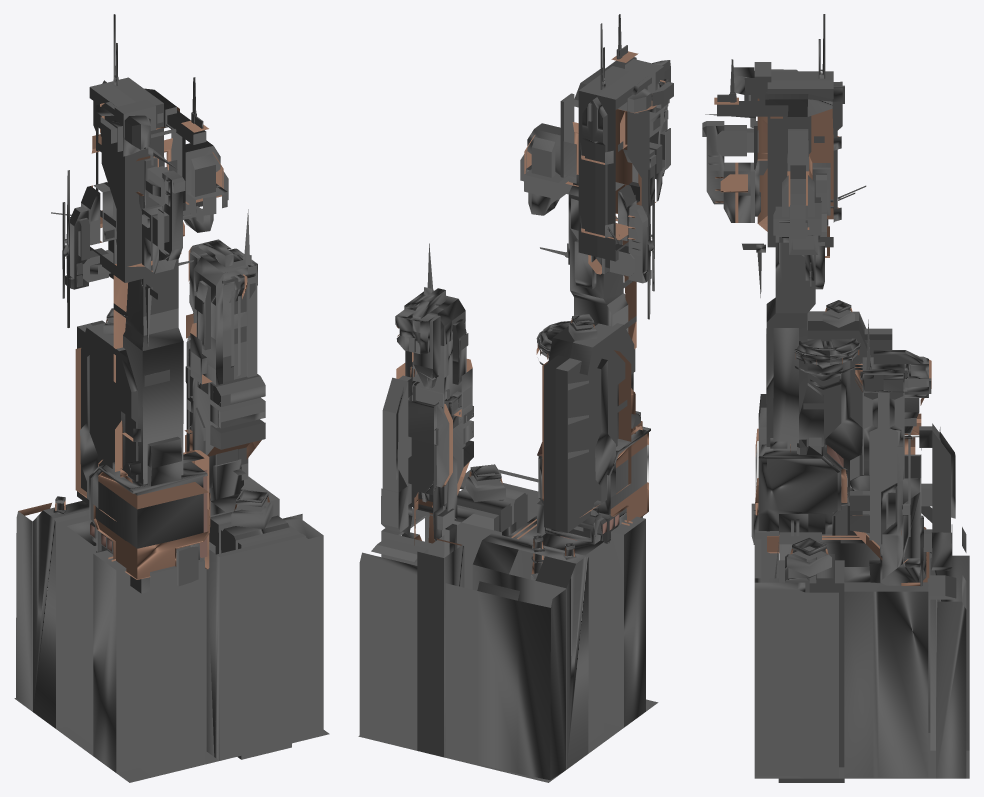
Rendered from downtown_high_04.glb.
3 renders of one model, left to right at view 1: azimuth 30°, elevation 25°; view 2: azimuth 150°, elevation 25°; view 3: azimuth 270°, elevation 25°, orthographic. The views are drawn at different scales.
Bounding box in the file's own units: 296 × 919 × 318.
